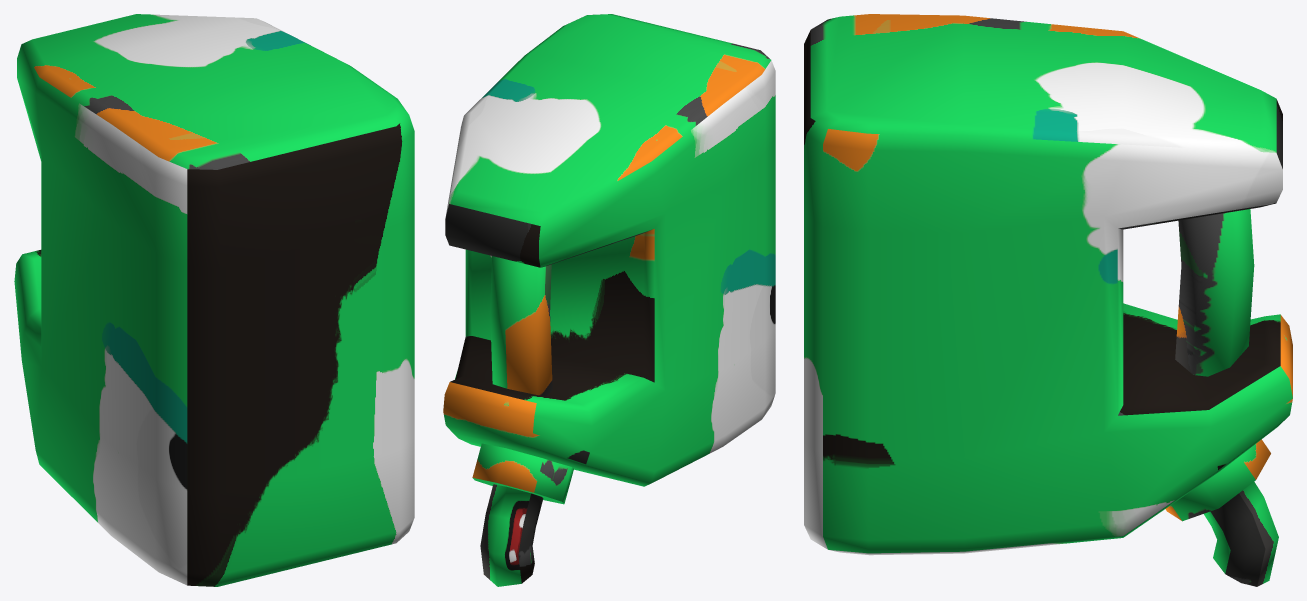
Rendered from Gasoline.fbx.
3 renders of one model, left to right at view 1: azimuth 30°, elevation 25°; view 2: azimuth 150°, elevation 25°; view 3: azimuth 270°, elevation 25°, orthographic. The views are drawn at different scales.
Visible parts, largest first — view 1: Cube.007; view 2: Cube.007; view 3: Cube.007.
Boxes of the visible parts, x1,y1,x2,y2 form: Cube.007: [14, 14, 414, 586]; Cube.007: [443, 14, 775, 586]; Cube.007: [804, 14, 1292, 586].
Bounding box in the file's own units: 48.48 × 95.3 × 82.37.
